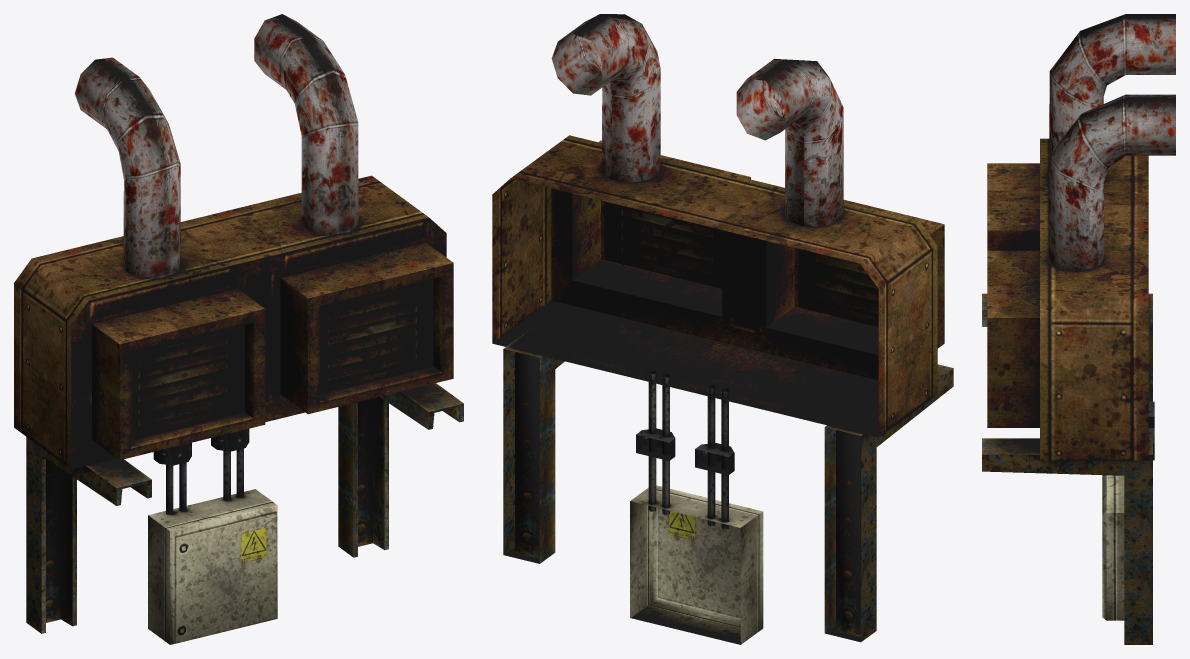
The model's file is HEATING.obj.
3 renders of one model, left to right at view 1: azimuth 30°, elevation 25°; view 2: azimuth 150°, elevation 25°; view 3: azimuth 270°, elevation 25°, orthographic. The views are drawn at different scales.
Parts seen in each view (by area): view 1: Group; view 2: Group; view 3: Group.
Part boxes in pixels (bbox=[...]): Group: bbox=[14, 14, 463, 644]; Group: bbox=[492, 14, 953, 644]; Group: bbox=[982, 14, 1175, 644].
Size of the model in its own units: 83.04 by 120 by 39.13.
Materials: 1 (1 with a texture image).
